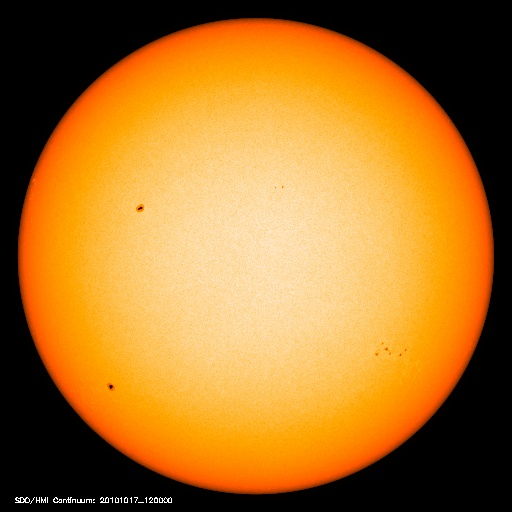sunspot: (368, 335, 415, 363), (127, 195, 154, 220), (99, 374, 122, 399), (265, 175, 290, 198)
